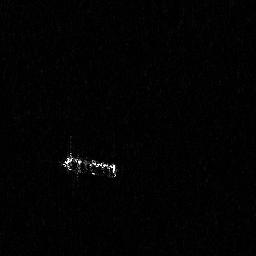ship: (61, 134, 119, 184)
